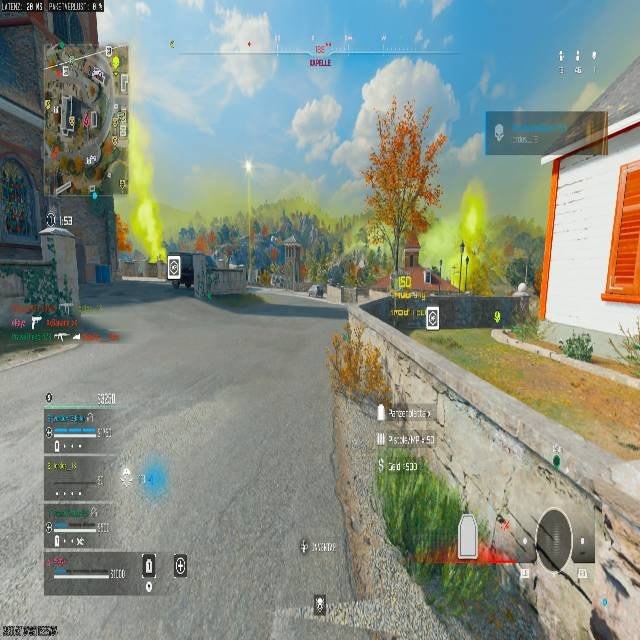player: (289, 88, 355, 211), (341, 254, 368, 307)
